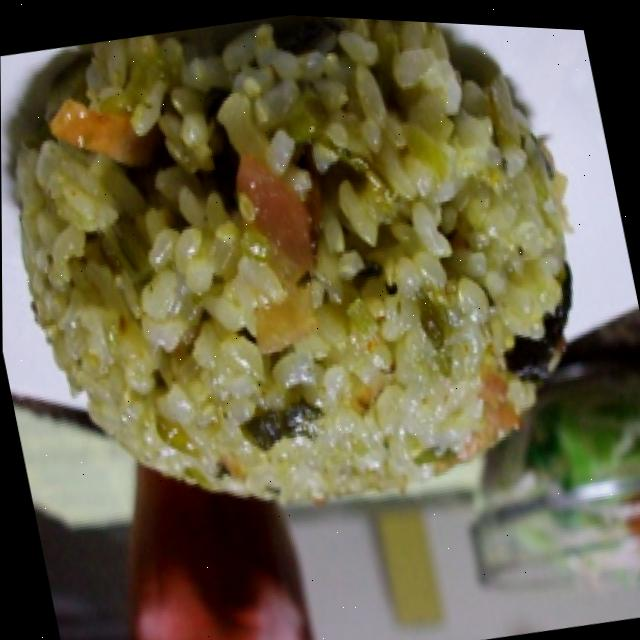米饭主食: (0, 0, 640, 594)
